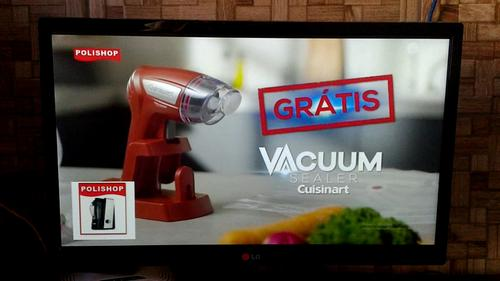Polishop #1: (72, 180, 135, 239)
